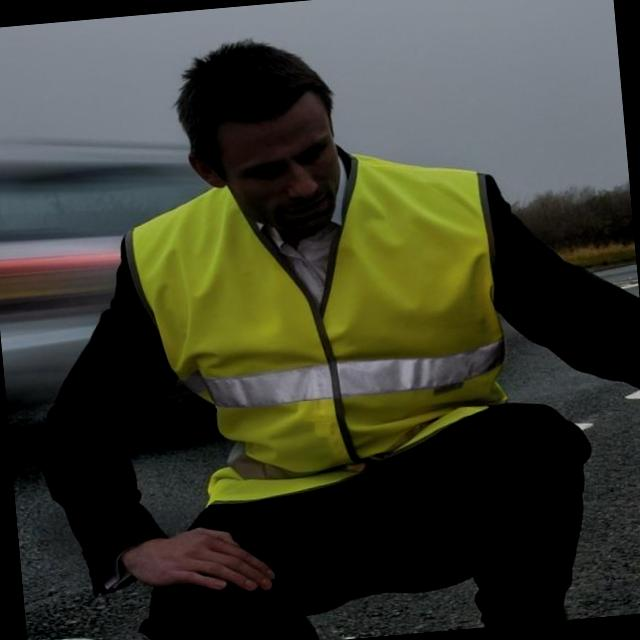no-gloves: (75, 520, 259, 614)
no-helmet: (160, 28, 356, 244)
vest: (118, 147, 532, 524)
